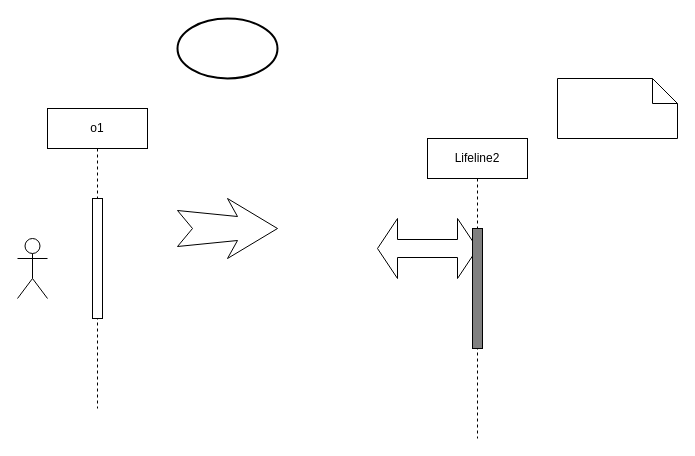
Image size: 695x456. Some labels were removed from this diagram. The box of each missing label's shape, as (x1, y1, x2, y2) in pixels:
Actor: (16, 238, 48, 298)
Comment1 body: (556, 78, 678, 138)
